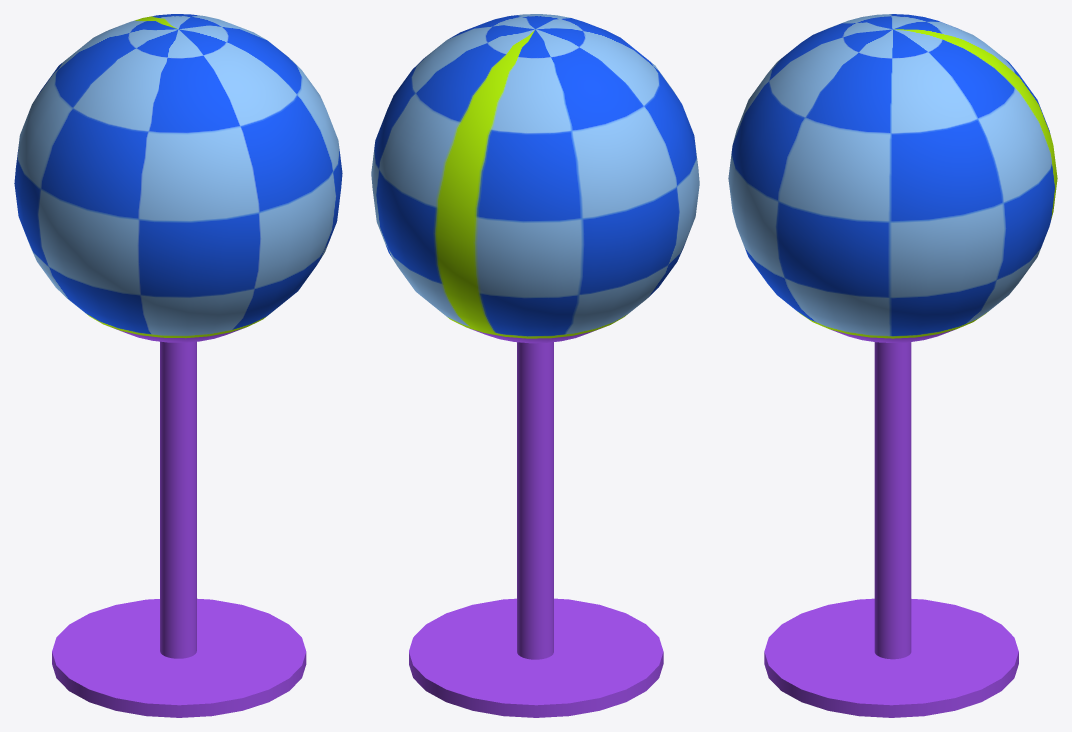
File: LightTable01_5.FBX
The picture shows the model from 3 angles, left to right: view 1: azimuth 30°, elevation 25°; view 2: azimuth 150°, elevation 25°; view 3: azimuth 270°, elevation 25°; orthographic projection.
Visible parts, largest first — view 1: LightTable01_5; view 2: LightTable01_5; view 3: LightTable01_5.
Boxes of the visible parts, x1,y1,x2,y2 form: LightTable01_5: (14, 14, 342, 717); LightTable01_5: (371, 14, 699, 717); LightTable01_5: (728, 14, 1057, 717).
Bounding box in the file's own units: 18.8 × 40 × 18.8.
